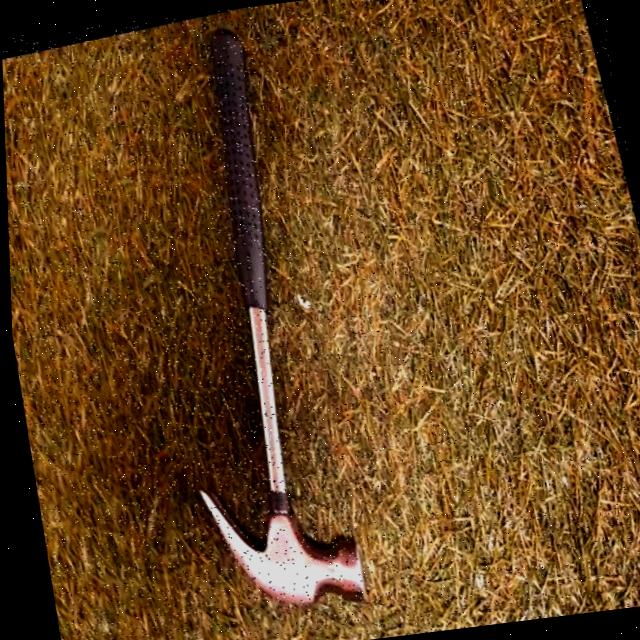hammer: (124, 20, 374, 626)
